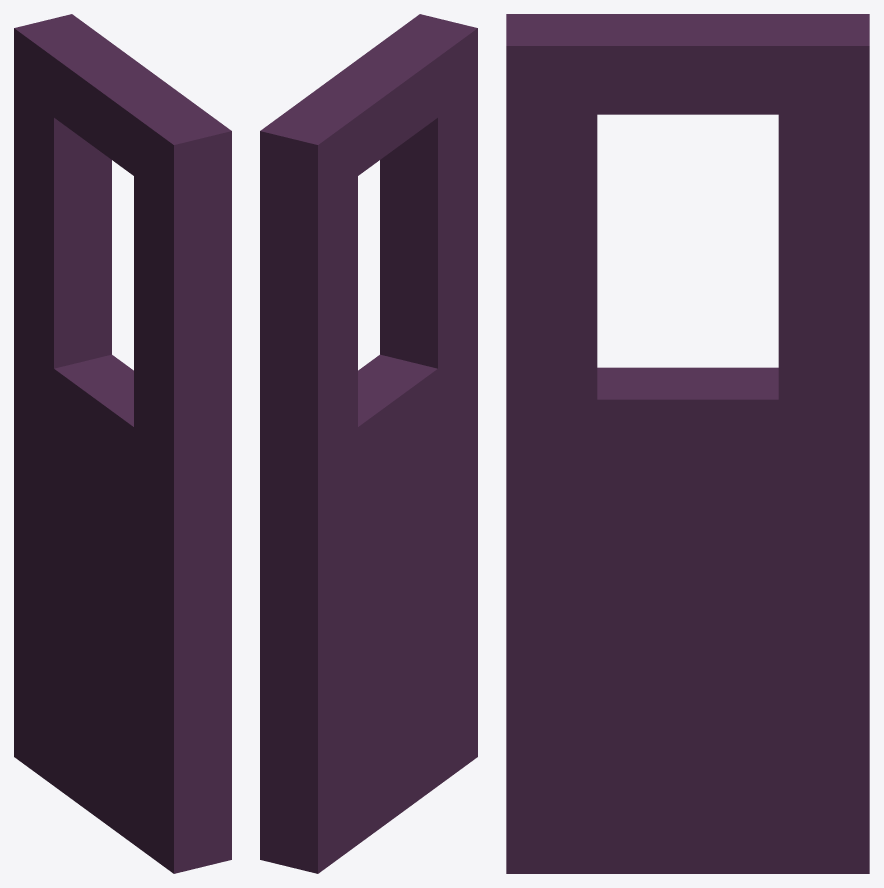
Rendered from Door(Proto-type).fbx.
The picture shows the model from 3 angles, left to right: view 1: azimuth 30°, elevation 25°; view 2: azimuth 150°, elevation 25°; view 3: azimuth 270°, elevation 25°; orthographic projection. The views are drawn at different scales.
Parts seen in each view (by area): view 1: NormalDoor1; view 2: NormalDoor1; view 3: NormalDoor1.
Boxes of the visible parts, x1,y1,x2,y2 form: NormalDoor1: [14, 14, 231, 873]; NormalDoor1: [260, 14, 477, 873]; NormalDoor1: [506, 14, 869, 873].
Bounding box in the file's own units: 0.5661 × 6.8 × 2.7.
